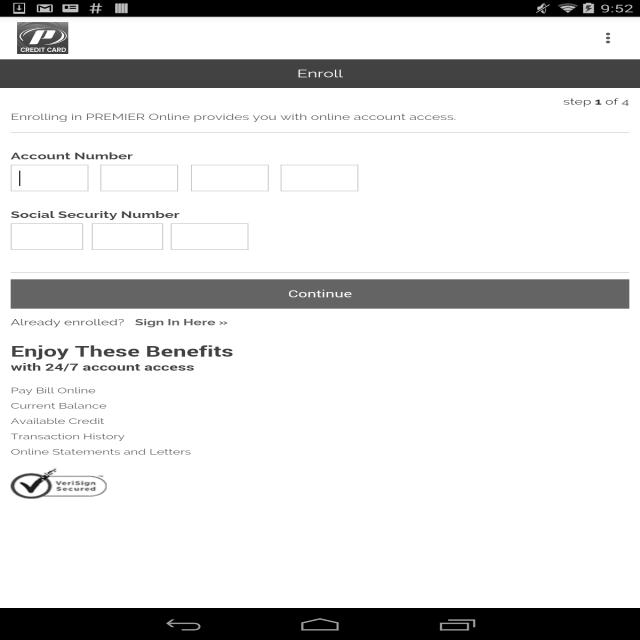Button: (11, 279, 629, 309)
EditText: (170, 223, 250, 250), (280, 165, 360, 191), (100, 165, 179, 191), (191, 165, 270, 191), (11, 165, 88, 191), (11, 223, 83, 250), (92, 223, 164, 250)
ImageView: (17, 22, 68, 54), (589, 22, 631, 54)
